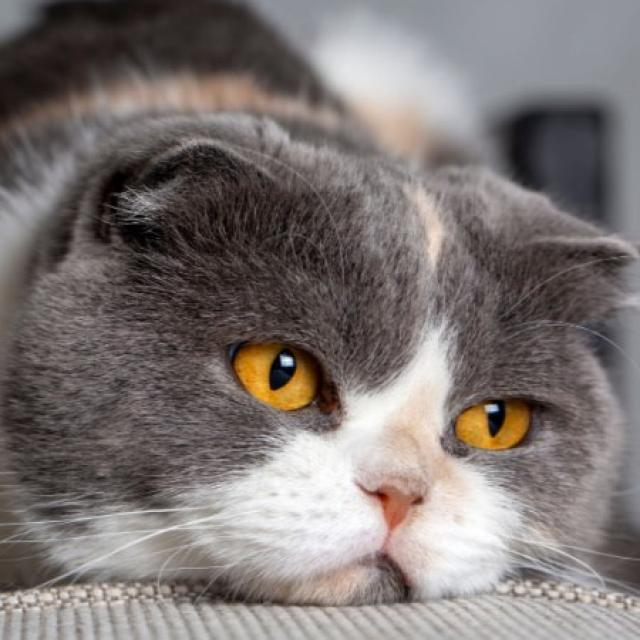Sad: (178, 263, 570, 598)
